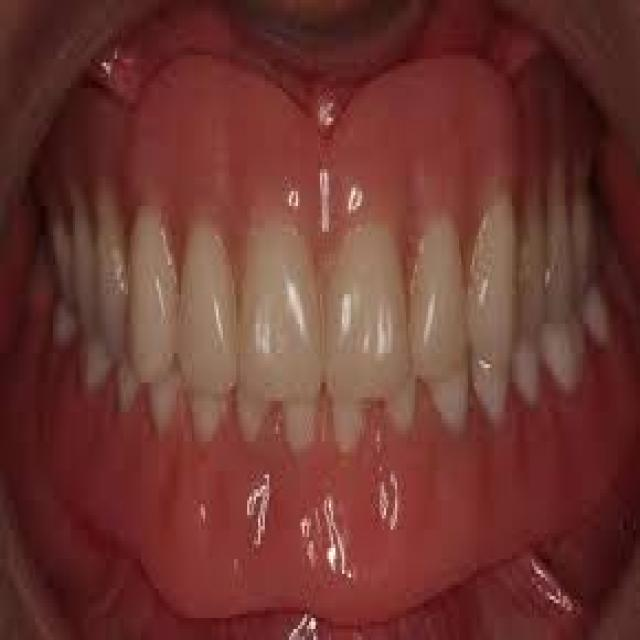tooth: (324, 232, 408, 404), (236, 235, 320, 401), (174, 214, 240, 394), (402, 214, 466, 376), (461, 192, 514, 360), (121, 210, 172, 375), (97, 180, 126, 360), (510, 213, 552, 335), (560, 199, 602, 298), (543, 312, 585, 393), (424, 357, 468, 434), (543, 206, 571, 316), (75, 210, 99, 334), (472, 346, 510, 423), (278, 393, 324, 452), (510, 334, 543, 416), (183, 386, 227, 442), (327, 394, 366, 456), (227, 386, 267, 445), (51, 213, 75, 298), (80, 331, 108, 394), (388, 383, 415, 445), (150, 383, 181, 434), (585, 290, 609, 346), (117, 364, 143, 412), (53, 302, 75, 346)
